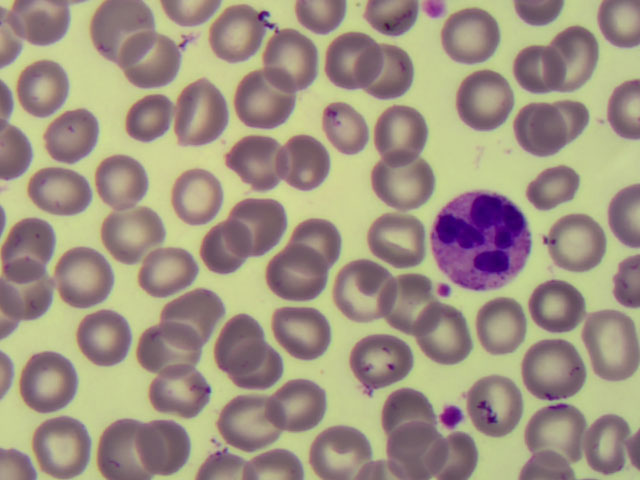Platelets: (437, 401, 463, 428), (423, 1, 446, 21)
RBC: (88, 424, 150, 480), (130, 424, 192, 480), (305, 424, 367, 480), (409, 424, 471, 480), (87, 4, 149, 59), (114, 29, 176, 84), (108, 93, 170, 148), (160, 83, 222, 138), (58, 112, 120, 167), (15, 70, 77, 125), (82, 144, 144, 199), (35, 164, 97, 219), (11, 206, 73, 261), (8, 260, 70, 315), (50, 243, 112, 298), (65, 317, 127, 372), (24, 354, 86, 409), (30, 417, 92, 472), (160, 374, 222, 429), (143, 324, 205, 379), (167, 288, 229, 343), (130, 239, 192, 294), (105, 207, 167, 262), (172, 170, 234, 225), (227, 131, 289, 186), (271, 134, 333, 189), (231, 80, 293, 135), (264, 29, 326, 84), (204, 9, 266, 64), (322, 32, 384, 87), (352, 36, 414, 91), (364, 100, 426, 155), (374, 153, 436, 208), (319, 105, 381, 160), (369, 210, 431, 265), (330, 258, 392, 313), (377, 276, 439, 331), (419, 301, 481, 356), (350, 328, 412, 383), (277, 307, 339, 362), (257, 252, 319, 307), (285, 225, 347, 280), (231, 190, 293, 245), (202, 217, 264, 272), (221, 308, 283, 363), (233, 342, 295, 397), (266, 373, 328, 428), (217, 396, 279, 451), (367, 383, 429, 438), (376, 414, 438, 469), (462, 382, 524, 437), (528, 339, 590, 394), (474, 302, 536, 357), (517, 280, 579, 335), (578, 317, 640, 372), (578, 406, 640, 461), (523, 406, 585, 461), (539, 215, 601, 270), (518, 161, 580, 216), (493, 100, 555, 155), (534, 100, 596, 155), (466, 77, 528, 132), (503, 46, 565, 101), (553, 30, 615, 85), (444, 15, 506, 70), (10, 1, 72, 55)
WBC: (428, 189, 529, 293)
